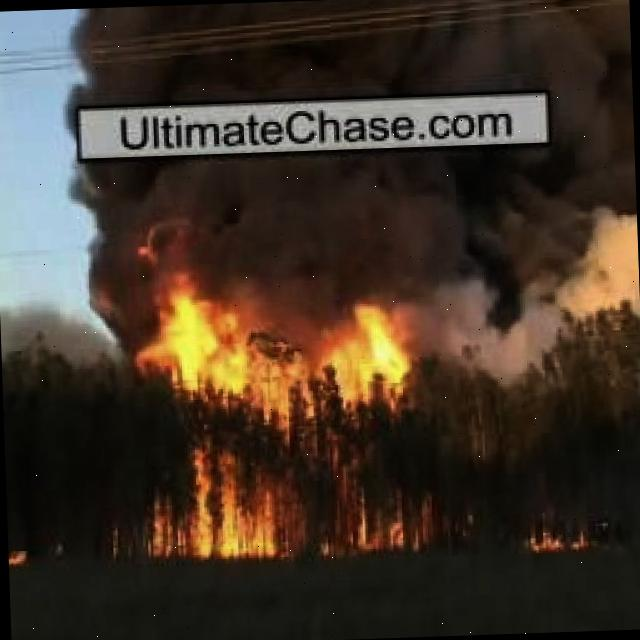fire: (156, 262, 433, 558), (516, 526, 594, 552)
